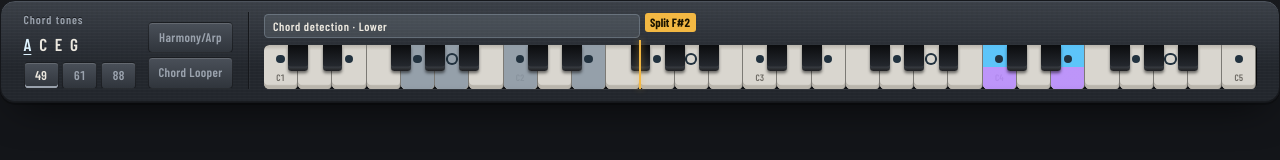
Test: keyboard strip › matches the connected Launchkey 49, and switches size
The width and height of the screenshot is (1280, 160).
Click the button with class "size" showing "88" at (118, 75), box [101,62,136,89]
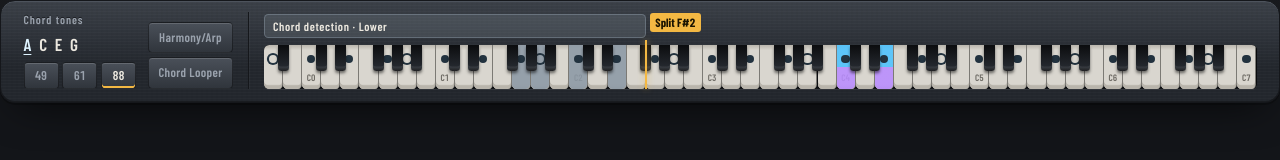
Expected: the number of elements with class "key" is 88
# The chosen one again: back to matching the Launchkey.
Click the button with class "size" showing "88" at (118, 75), box [101,62,136,89]
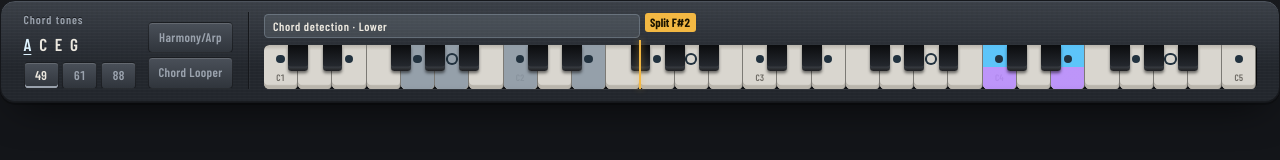
Expected: the number of elements with class "key" is 49
